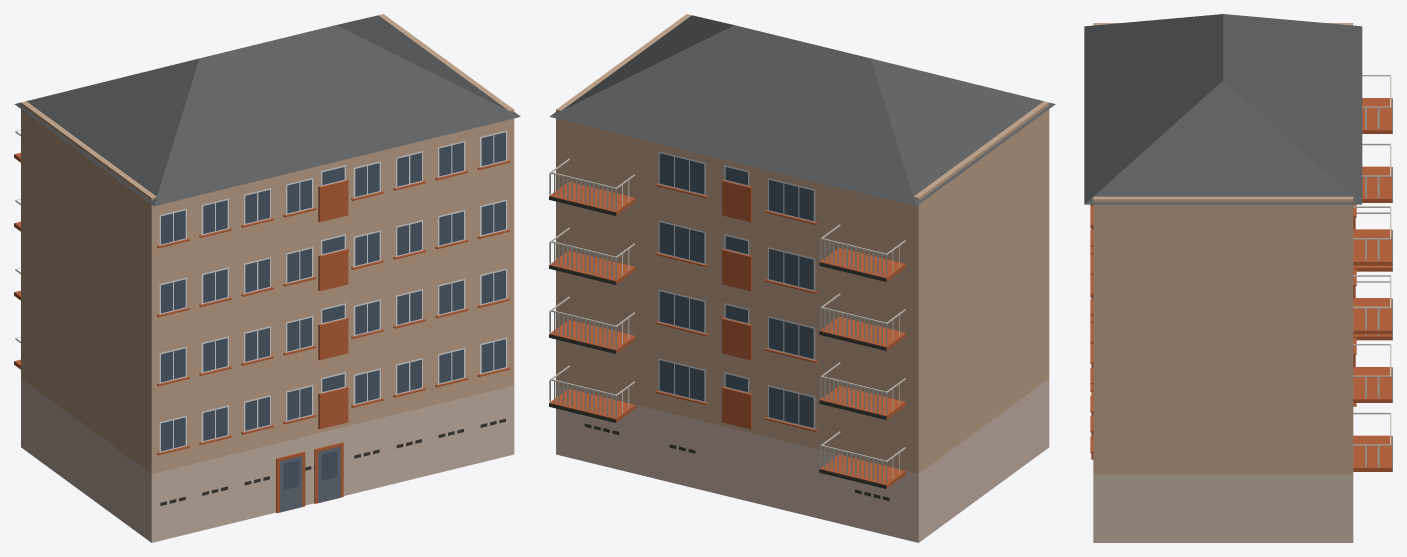
The model's file is nw-peach-render-entrance-front__peach-orange__5__hip__long__solid.glb.
3 renders of one model, left to right at view 1: azimuth 30°, elevation 25°; view 2: azimuth 150°, elevation 25°; view 3: azimuth 270°, elevation 25°, orthographic.
Visible parts, largest first — view 1: nw-peach-render-entrance-front__peach-orange__5__hip__long__; view 2: nw-peach-render-entrance-front__peach-orange__5__hip__long__; view 3: nw-peach-render-entrance-front__peach-orange__5__hip__long__.
Boxes of the visible parts, box(x1,y1,x2,y2) form: nw-peach-render-entrance-front__peach-orange__5__hip__long__: box(14, 14, 520, 542); nw-peach-render-entrance-front__peach-orange__5__hip__long__: box(549, 14, 1055, 542); nw-peach-render-entrance-front__peach-orange__5__hip__long__: box(1084, 14, 1392, 542).
Size of the model in its own units: 16.46 by 17.54 by 12.02.
